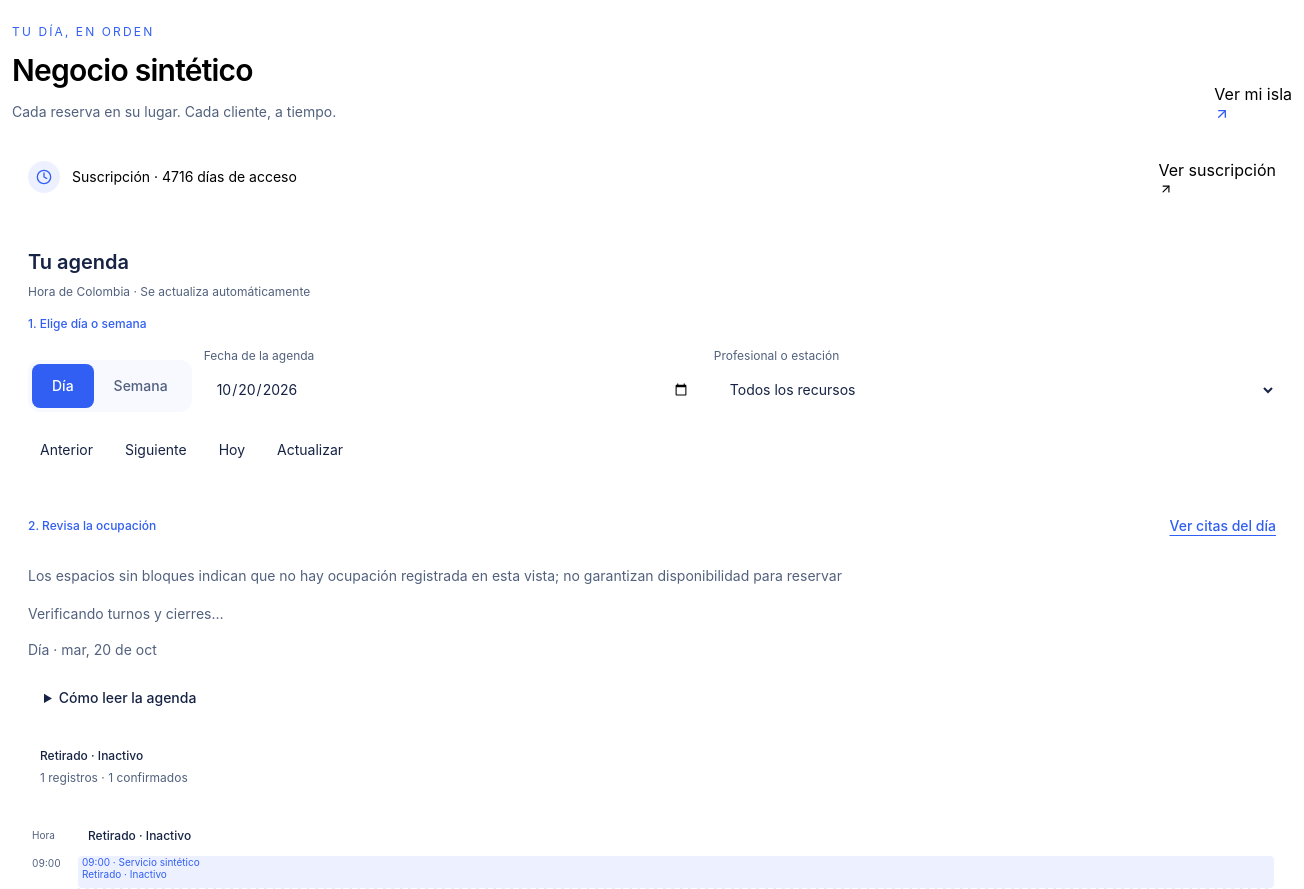
Test: owner agenda dashboard integration › weekSelectsFirstActiveOrHistoricalResource active=false
Click the button "Semana".
click(141, 386)  # box [94, 364, 188, 408]
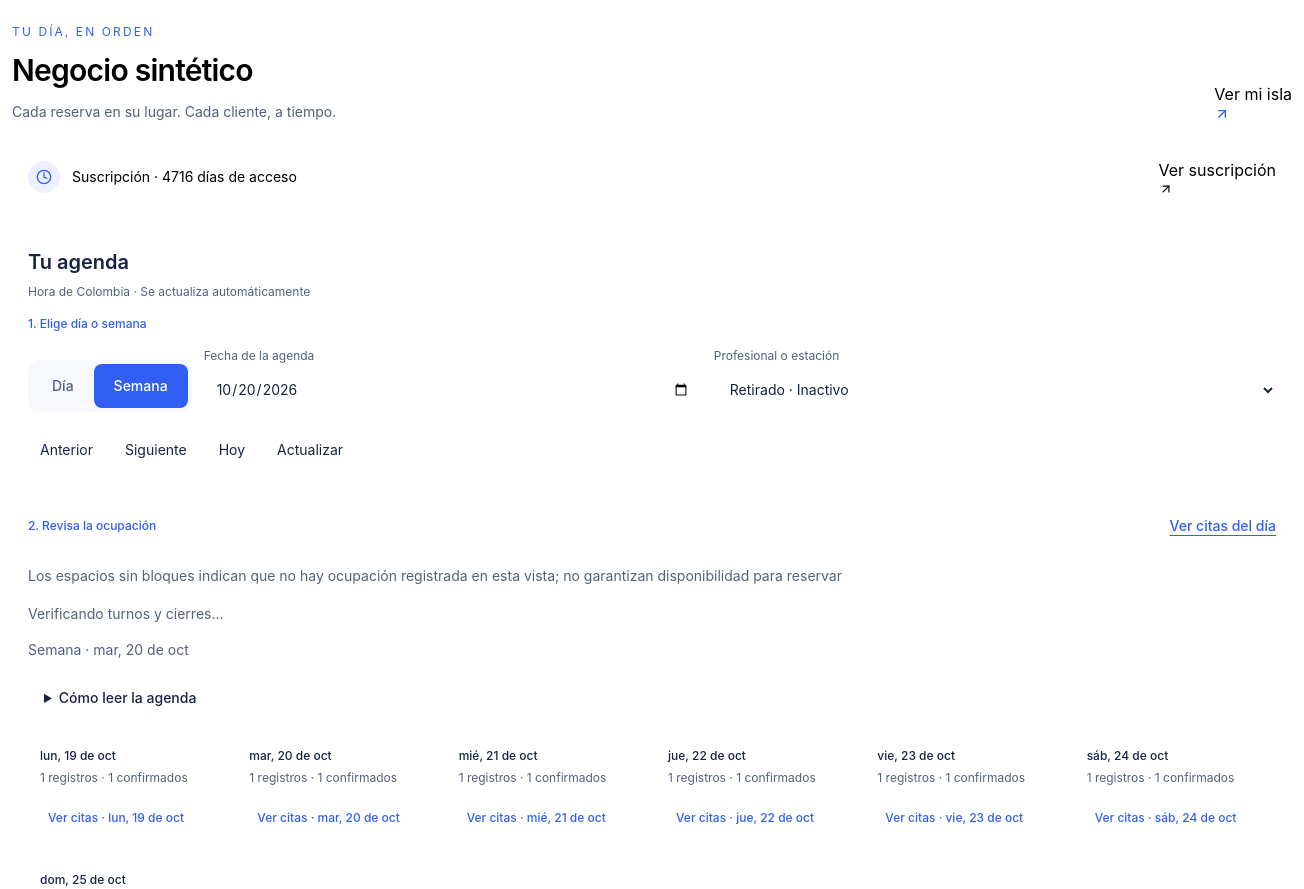
Expected: the dropdown labelled "Profesional o estación" shows "Retirado · Inactivo", [714, 368, 1276, 412]
